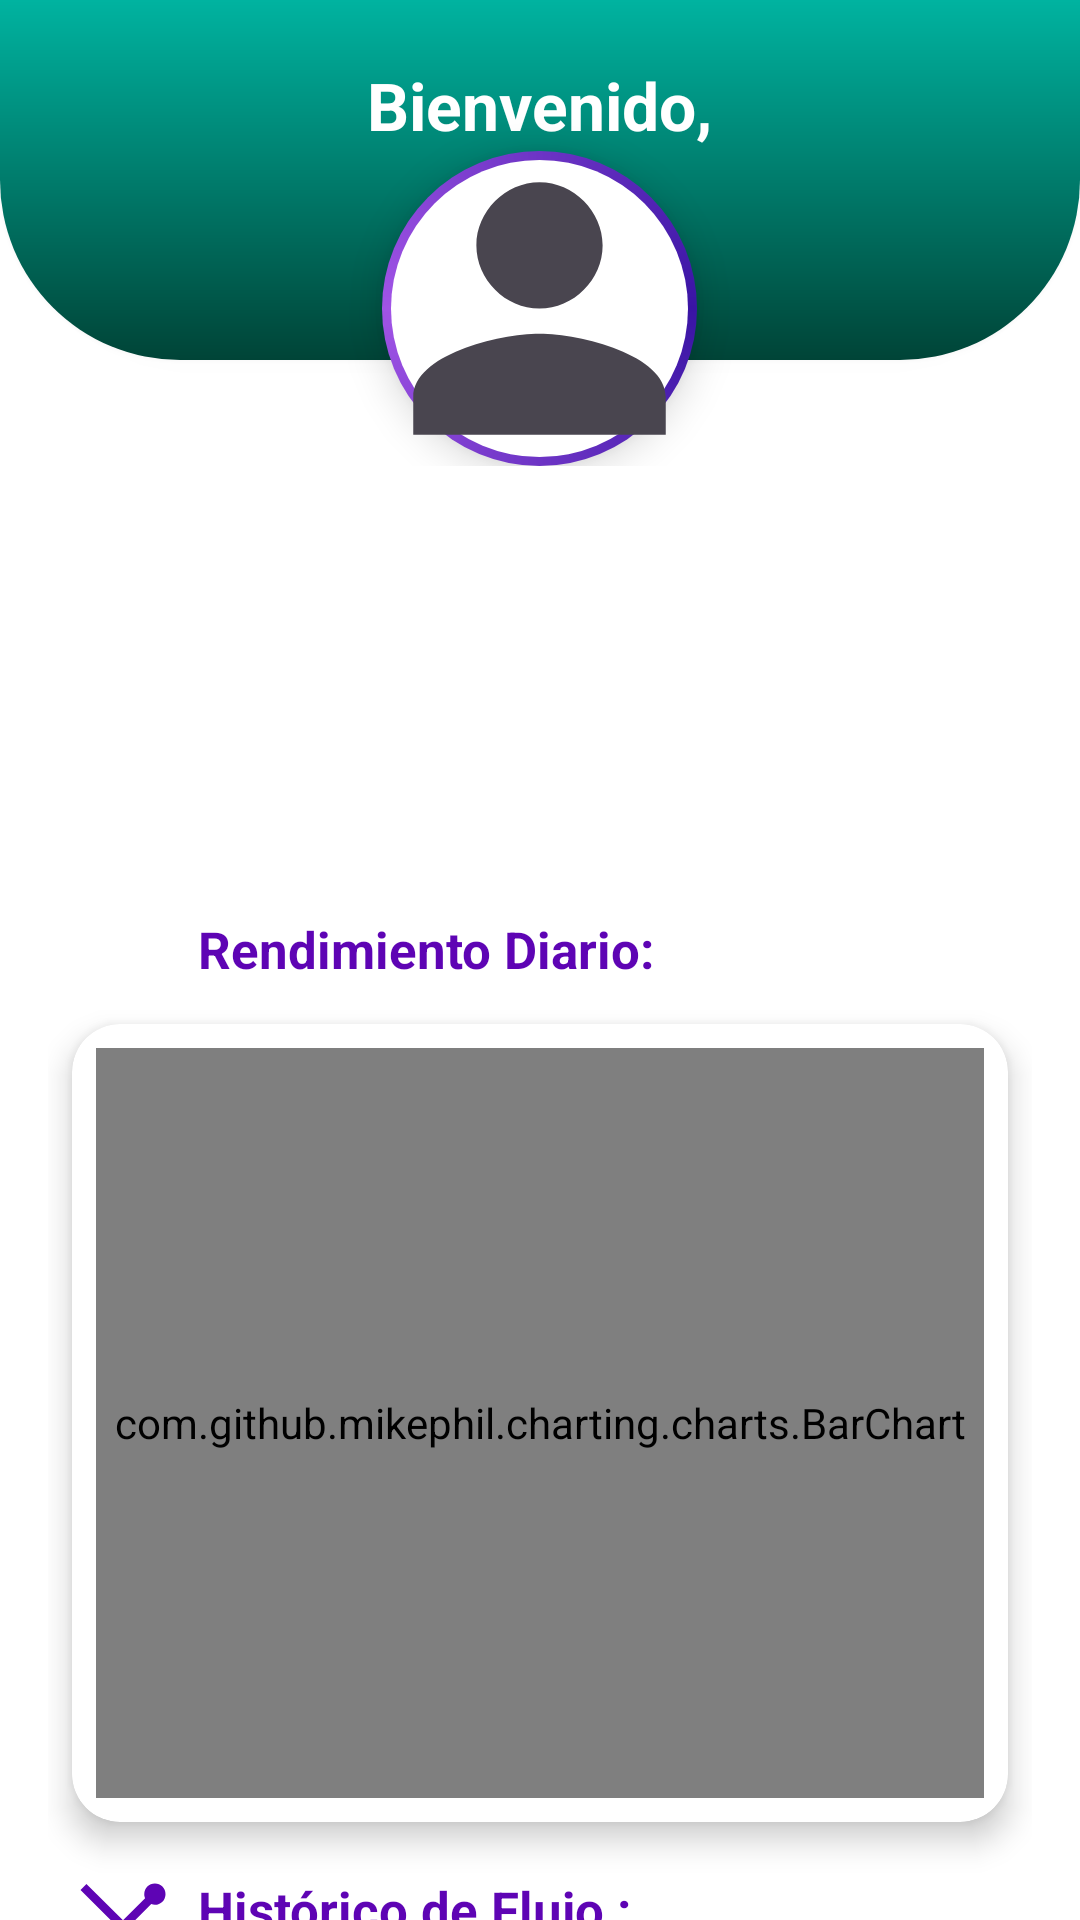

Icon click points for this 1080×1920 phone screenshot, format point (x, y):
Avatar: point (539, 308)
